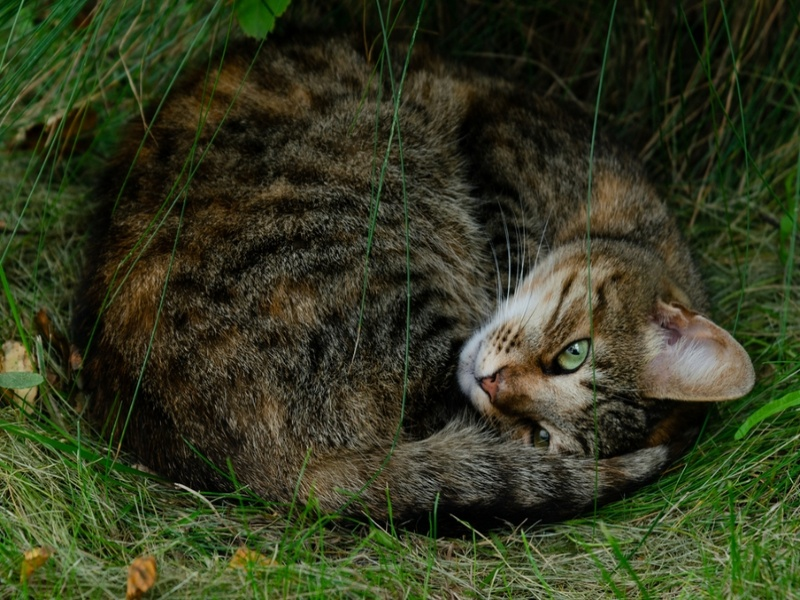cat: (79, 29, 761, 538)
